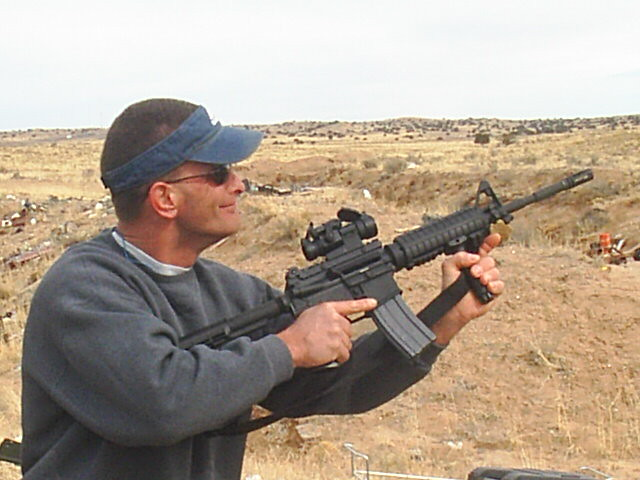gun: (162, 157, 603, 375)
person: (16, 91, 508, 480)
